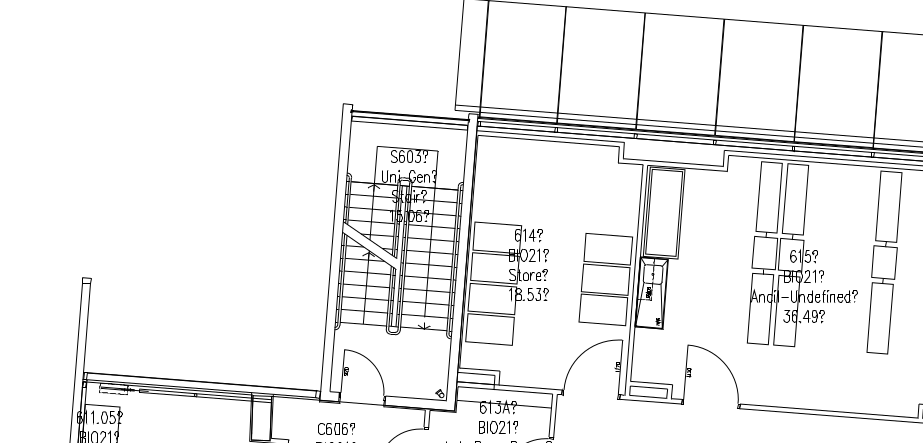door: (680, 341, 743, 407), (560, 335, 623, 395), (336, 341, 389, 408)
